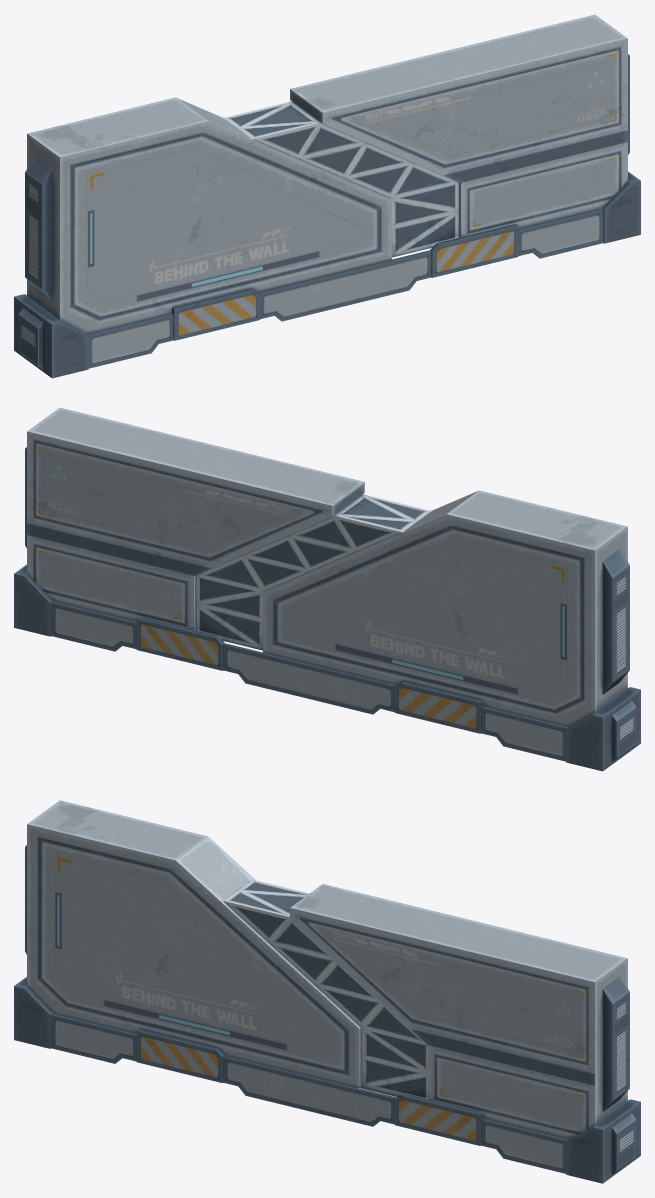
The model's file is TS2_Fbx_YanTi_5.FBX.
3 views of the same model, one above another, from view 1: azimuth 30°, elevation 25°; view 2: azimuth 150°, elevation 25°; view 3: azimuth 330°, elevation 25° (orthographic).
Parts seen in each view (by area): view 1: TS2_Fbx_YanTi_5; view 2: TS2_Fbx_YanTi_5; view 3: TS2_Fbx_YanTi_5.
Part boxes in pixels (x1,y1,x2,y2): TS2_Fbx_YanTi_5: (14, 14, 640, 378); TS2_Fbx_YanTi_5: (14, 407, 640, 771); TS2_Fbx_YanTi_5: (14, 800, 640, 1183).
Bounding box in the file's own units: 7.83 × 2.7 × 0.8634.
